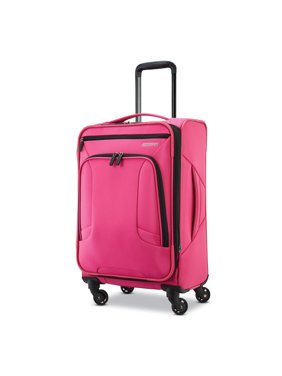luggage: (65, 57, 219, 320)
